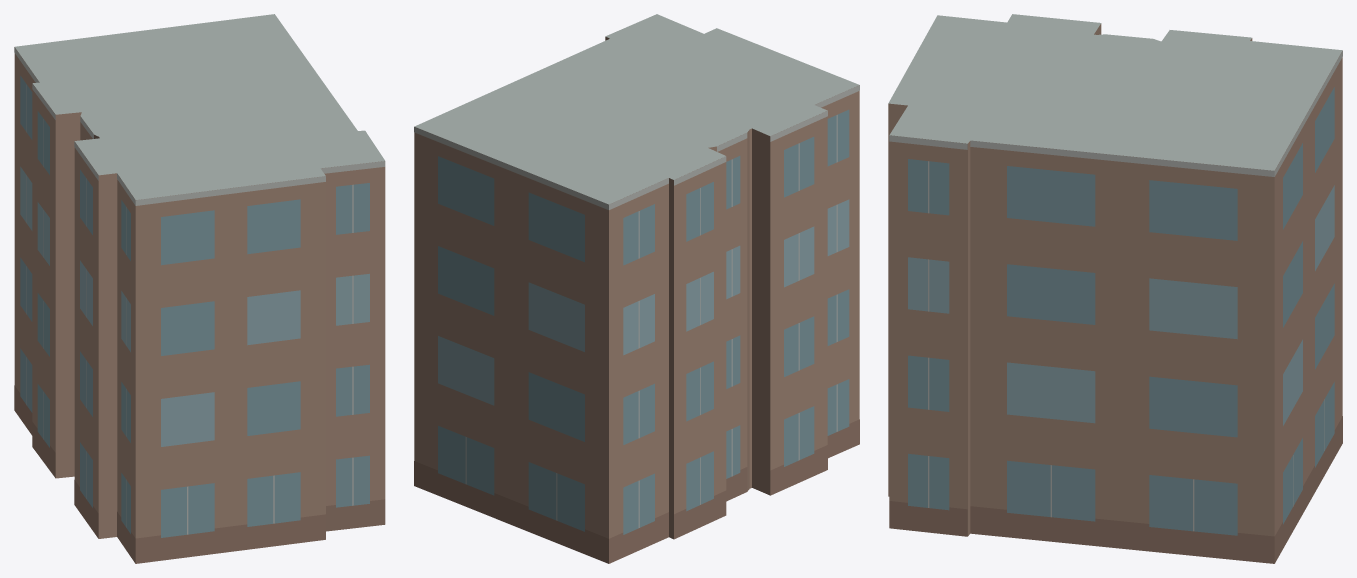
File: survey-upis-32726544.glb
3 renders of one model, left to right at view 1: azimuth 30°, elevation 25°; view 2: azimuth 150°, elevation 25°; view 3: azimuth 270°, elevation 25°, orthographic. The views are drawn at different scales.
Visible parts, largest first — view 1: survey-upis-32726544.tmp; view 2: survey-upis-32726544.tmp; view 3: survey-upis-32726544.tmp.
Part boxes in pixels (bbox=[...]): survey-upis-32726544.tmp: bbox=[14, 14, 385, 563]; survey-upis-32726544.tmp: bbox=[414, 14, 859, 563]; survey-upis-32726544.tmp: bbox=[888, 14, 1342, 563].
Bounding box in the file's own units: 13.01 × 15.2 × 15.94.
